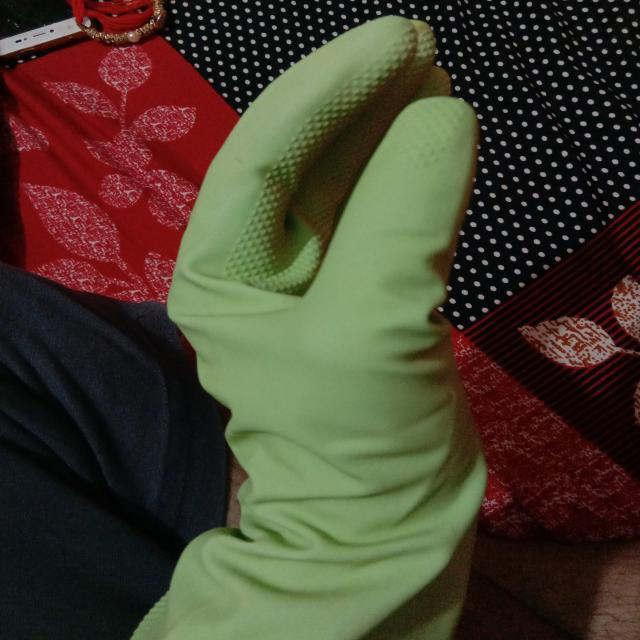glove_hand: (126, 16, 498, 639)
